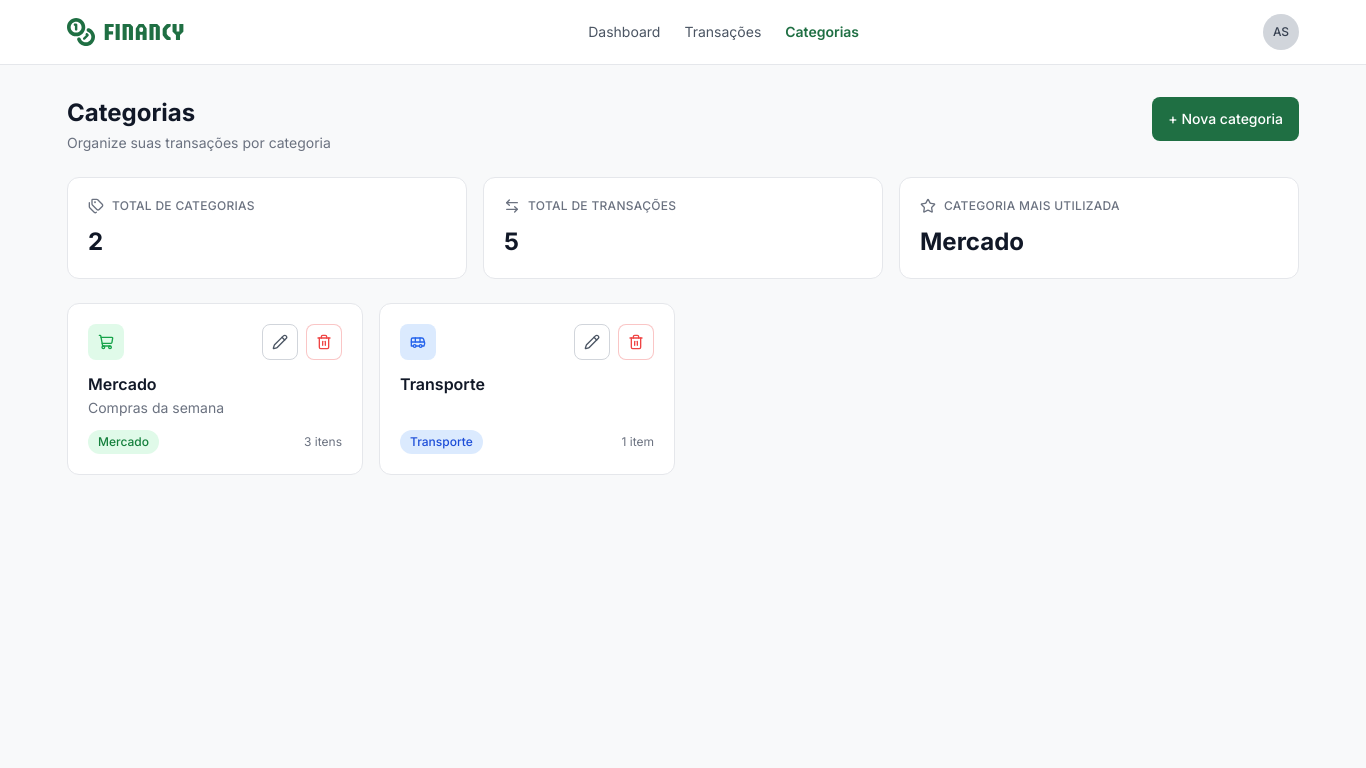
CategoriesPage › discards an abandoned edit when the same category is reopened
Click the button named "Editar Mercado" at (280, 342), box top-left (262, 324), bottom-right (298, 360)
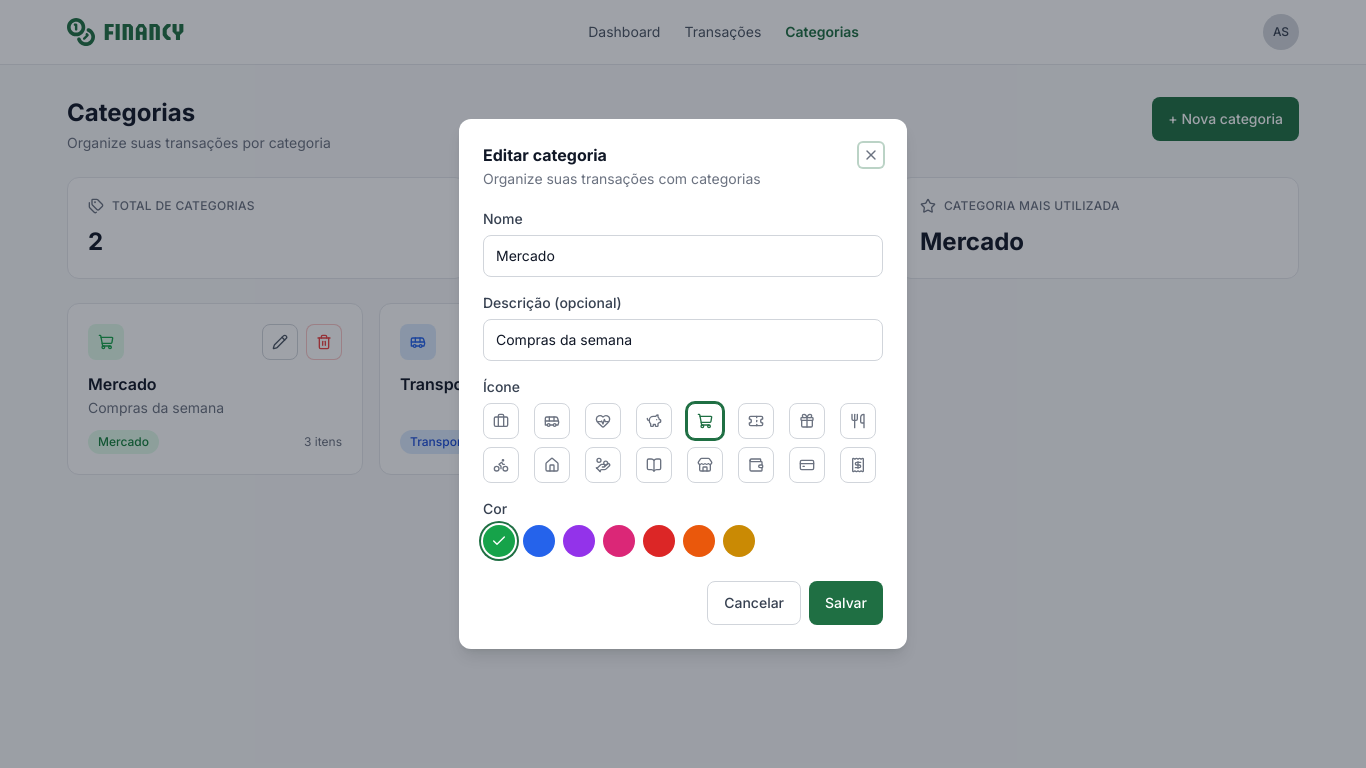
Type "Nome abandonado" into the field labelled "Nome" at (683, 256), box top-left (483, 235), bottom-right (883, 277)
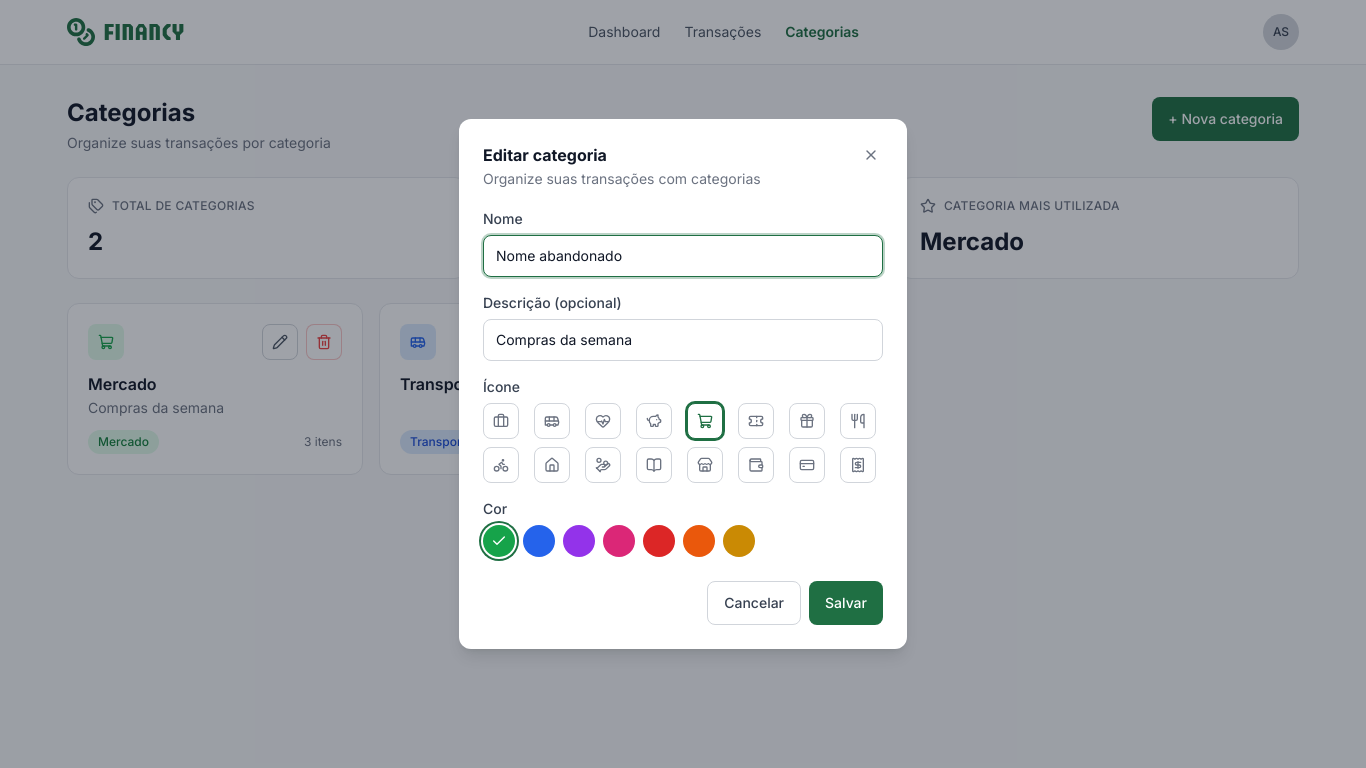
Click the button "Cancelar" at (754, 603), box top-left (707, 581), bottom-right (801, 625)
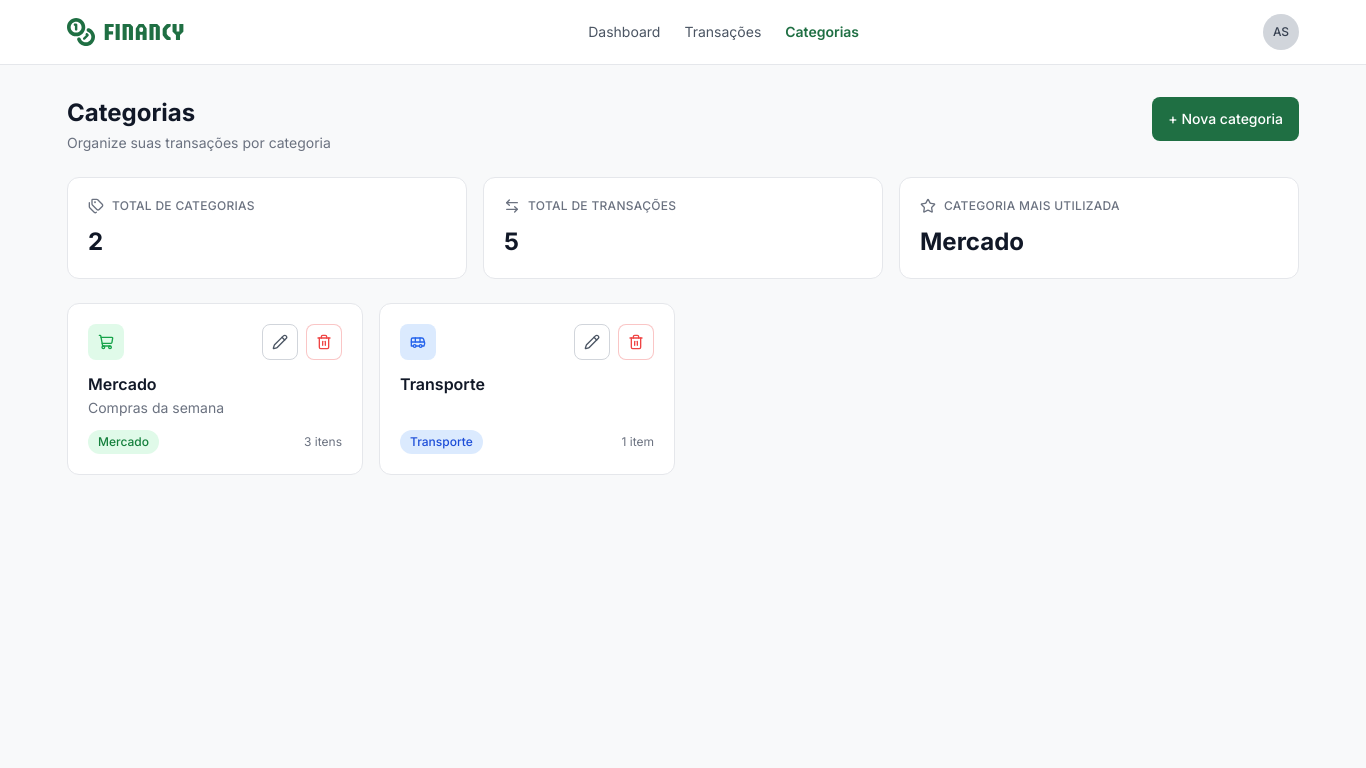
Click the button named "Editar Mercado" at (280, 342), box top-left (262, 324), bottom-right (298, 360)
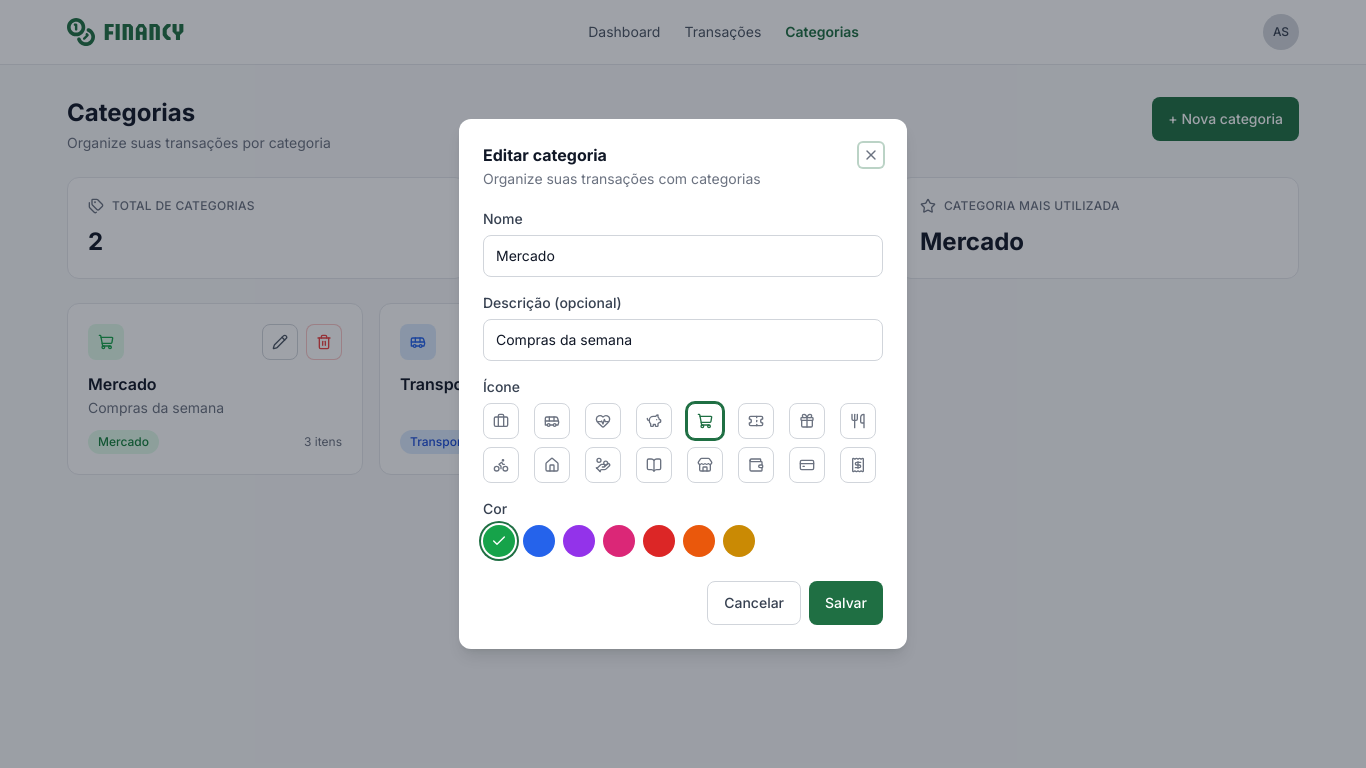
Result: the field labelled "Nome" holds "Mercado" at top-left (483, 235), bottom-right (883, 277)
